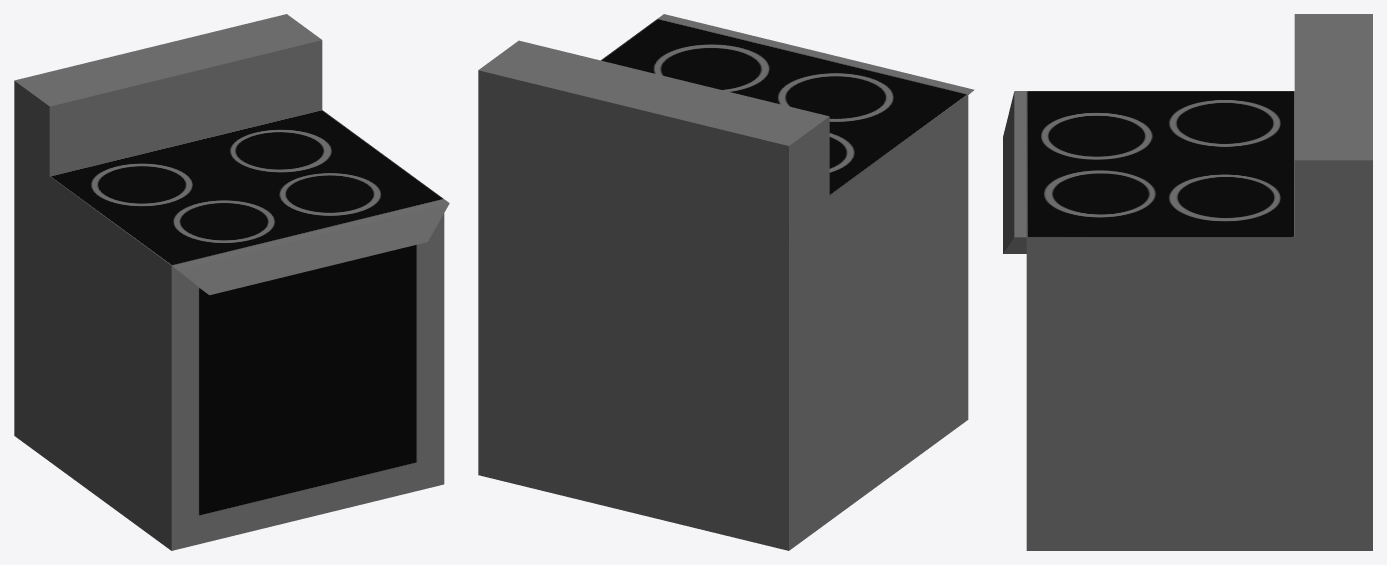
File: oven_1.fbx
3 views of the same model, side by side, from view 1: azimuth 30°, elevation 25°; view 2: azimuth 150°, elevation 25°; view 3: azimuth 270°, elevation 25° (orthographic). The views are drawn at different scales.
Parts seen in each view (by area): view 1: pCube1; view 2: pCube1; view 3: pCube1.
Part boxes in pixels (x1,y1,x2,y2): pCube1: (14,14,449,550); pCube1: (478,14,974,550); pCube1: (1003,14,1372,550).
Bounding box in the file's own units: 1 × 1.25 × 1.07.
